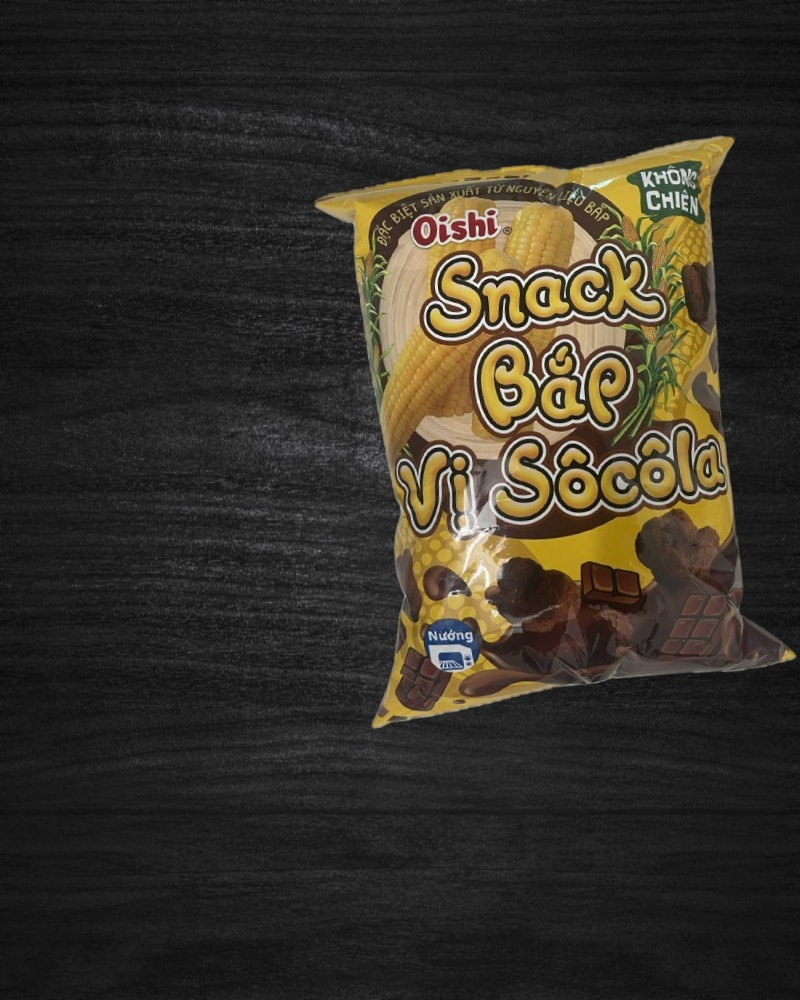Snack socola: (314, 137, 800, 718)
